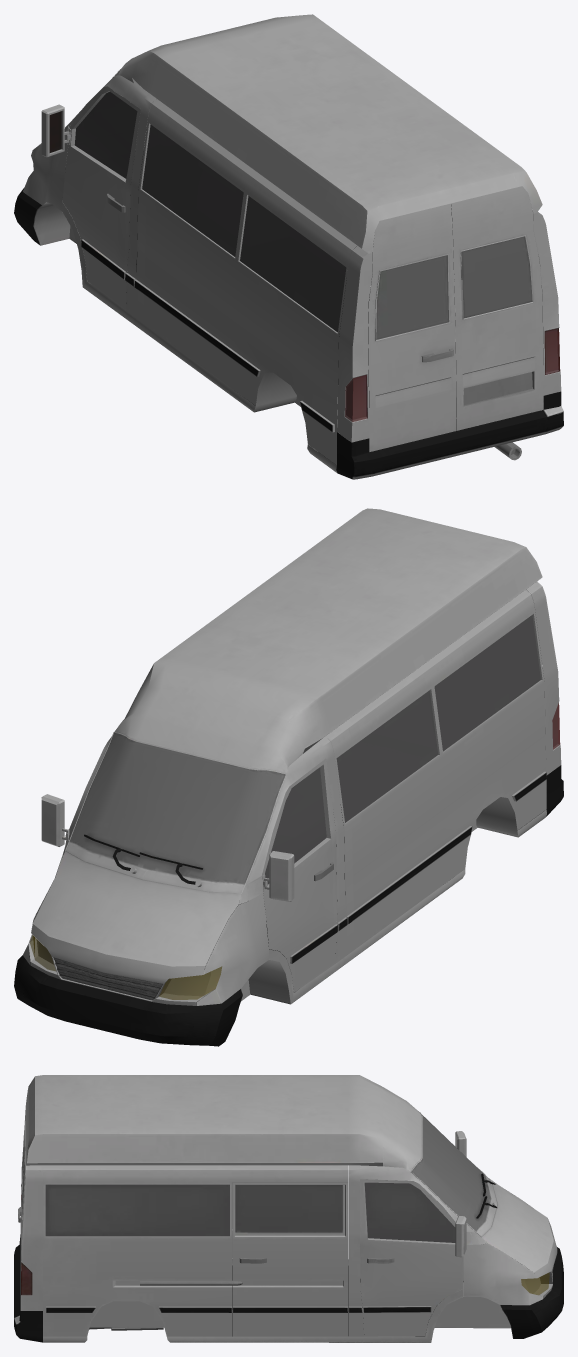
The model's file is van.glb.
3 renders of one model, top to bottom at view 1: azimuth 30°, elevation 25°; view 2: azimuth 150°, elevation 25°; view 3: azimuth 270°, elevation 25°, orthographic. The views are drawn at different scales.
Visible parts, largest first — view 1: van_body_extra1_van_extra1_white_0; view 2: van_body_extra1_van_extra1_white_0; view 3: van_body_extra1_van_extra1_white_0.
Part boxes in pixels (x1=…): van_body_extra1_van_extra1_white_0: x1=14, y1=14, x2=563, y2=479; van_body_extra1_van_extra1_white_0: x1=14, y1=508, x2=563, y2=1046; van_body_extra1_van_extra1_white_0: x1=14, y1=1075, x2=563, y2=1342.
Size of the model in its own units: 2.08 by 2.2 by 5.2.
1 material, 1 textured.
